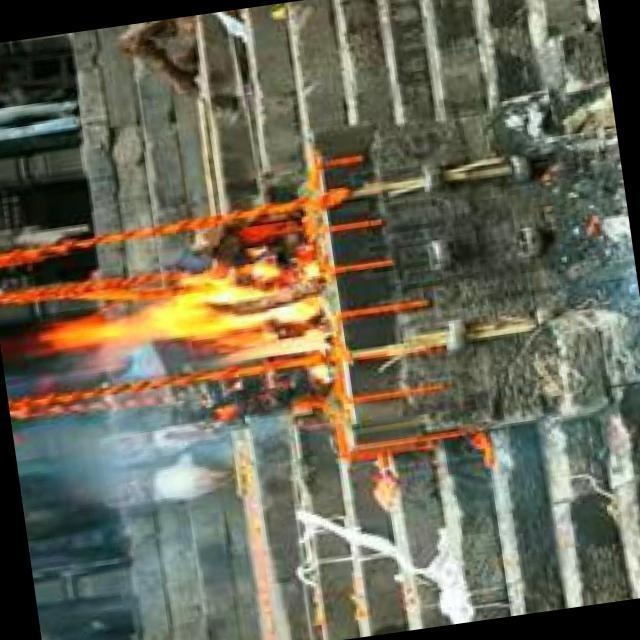Fire: (37, 251, 328, 403)
